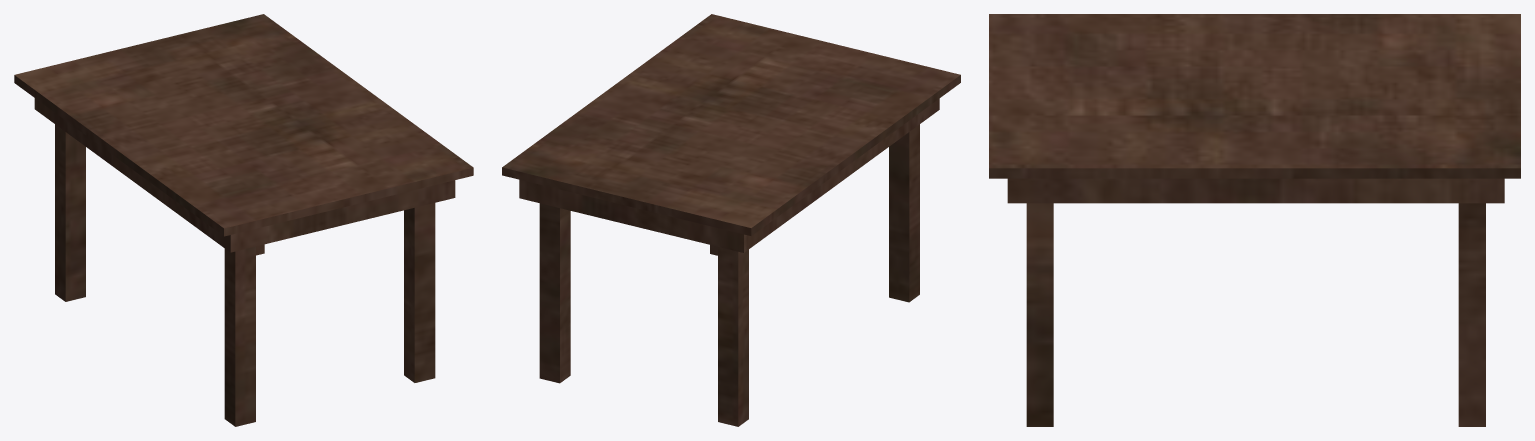
The model's file is objects_table_4.glb.
3 views of the same model, side by side, from view 1: azimuth 30°, elevation 25°; view 2: azimuth 150°, elevation 25°; view 3: azimuth 270°, elevation 25° (orthographic). The views are drawn at different scales.
Parts seen in each view (by area): view 1: table_4; view 2: table_4; view 3: table_4.
Boxes of the visible parts, left/top/right/bottom form: table_4: left=14, top=14, right=473, bottom=426; table_4: left=502, top=14, right=960, bottom=426; table_4: left=989, top=14, right=1520, bottom=426.
Size of the model in its own units: 1.86 by 1.54 by 2.71.
1 material, 1 textured.
